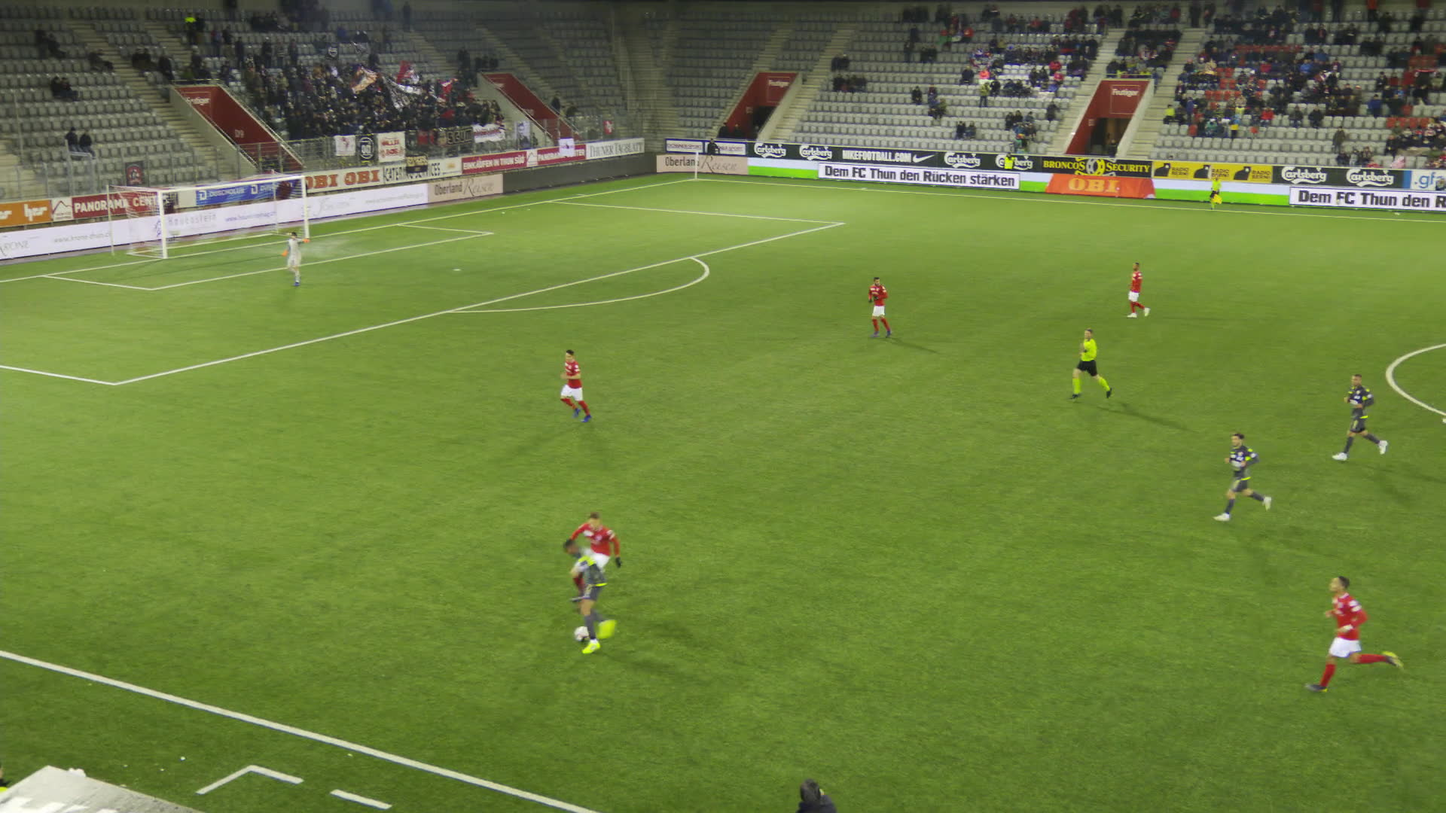ball: (572, 624, 589, 641)
player: (1316, 568, 1409, 702), (552, 525, 641, 648), (567, 503, 631, 605), (1222, 428, 1270, 526), (1335, 371, 1385, 465), (557, 346, 602, 428), (273, 227, 312, 290), (1115, 261, 1155, 320), (864, 276, 898, 343)
referee: (1071, 329, 1112, 405), (1200, 169, 1223, 211)
